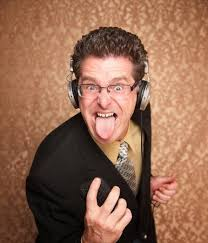white_male: (80, 65, 144, 140)
